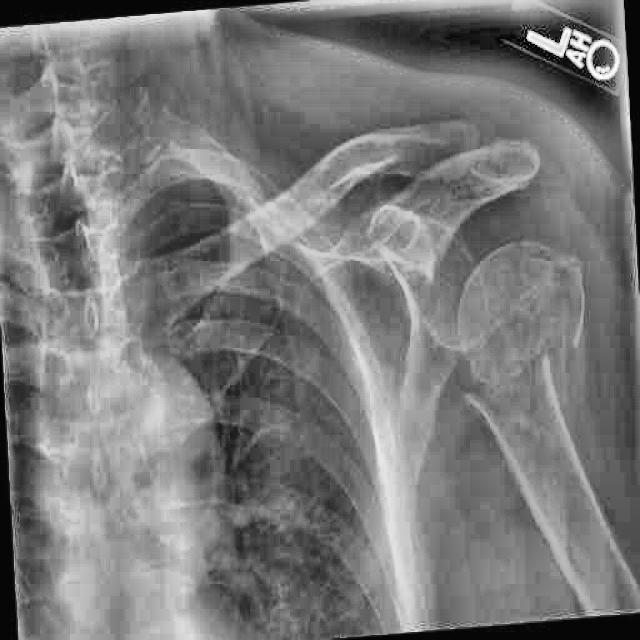shoulder fracture: (436, 291, 612, 460)
